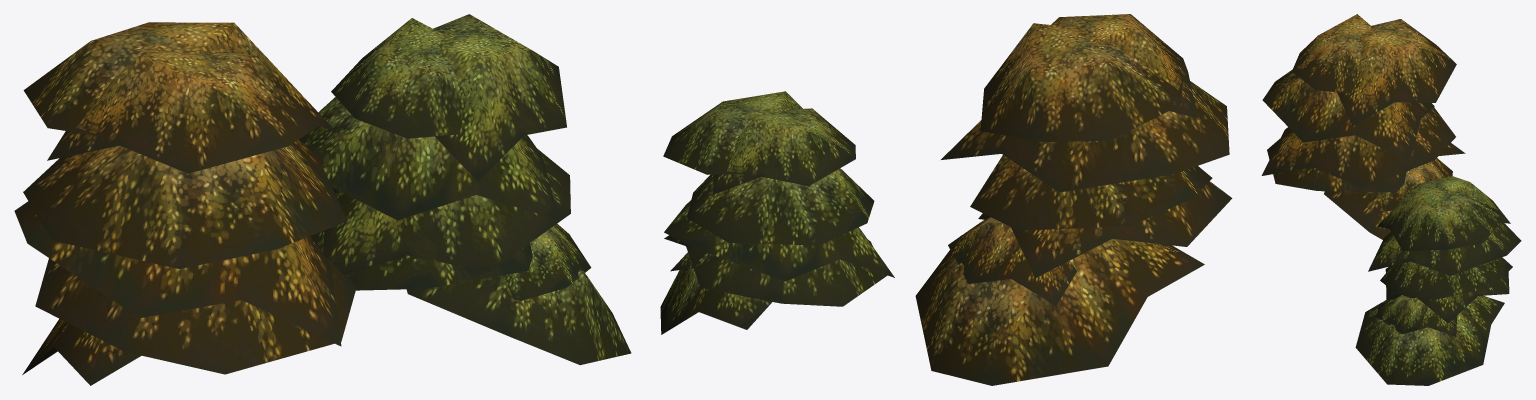
The model's file is plants_tall_trees09.fbx.
The picture shows the model from 3 angles, left to right: view 1: azimuth 30°, elevation 25°; view 2: azimuth 150°, elevation 25°; view 3: azimuth 270°, elevation 25°; orthographic projection. The views are drawn at different scales.
Visible parts, largest first — view 1: plants_tall_trees09-0; view 2: plants_tall_trees09-0; view 3: plants_tall_trees09-0.
Boxes of the visible parts, left/top/right/bottom form: plants_tall_trees09-0: left=14, top=14, right=631, bottom=385; plants_tall_trees09-0: left=660, top=14, right=1232, bottom=385; plants_tall_trees09-0: left=1261, top=14, right=1521, bottom=385.
Bounding box in the file's own units: 11.94 × 7.88 × 7.89.
